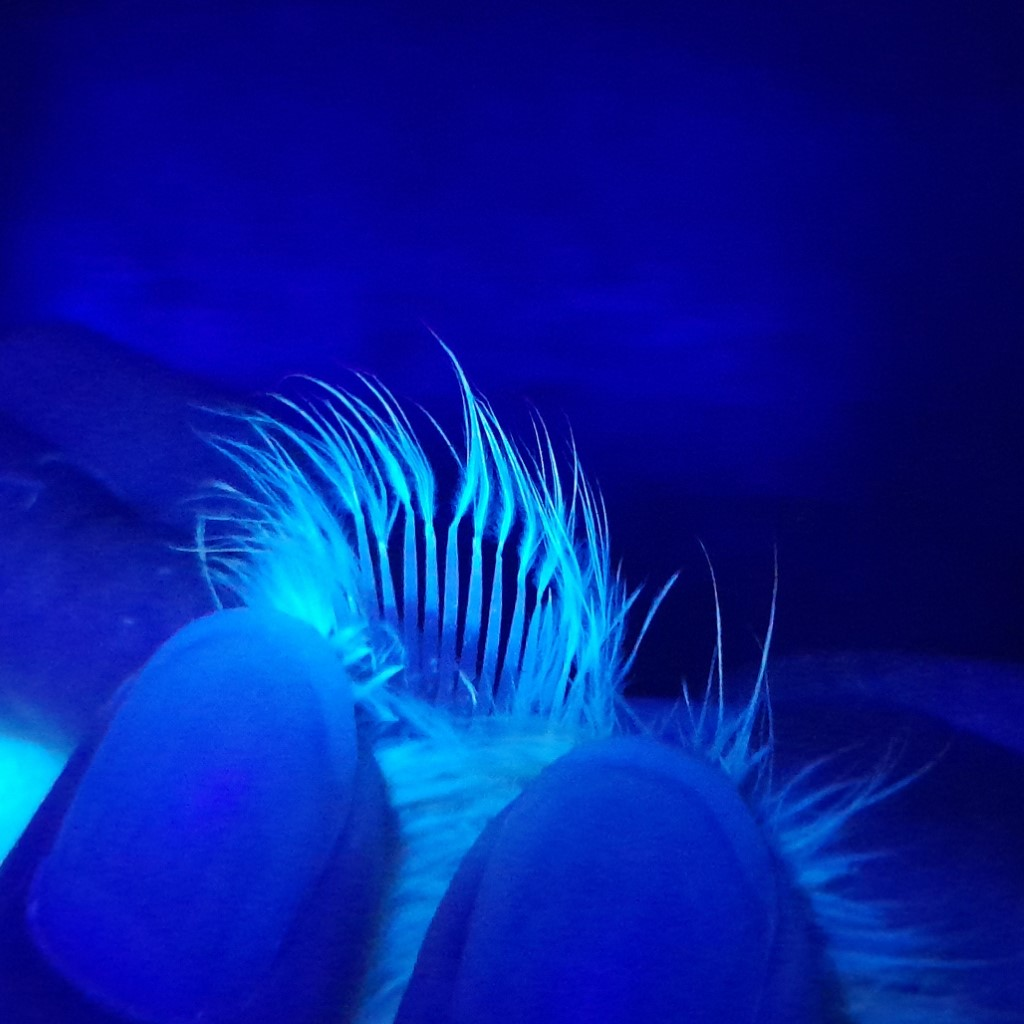male: (325, 491, 607, 760)
